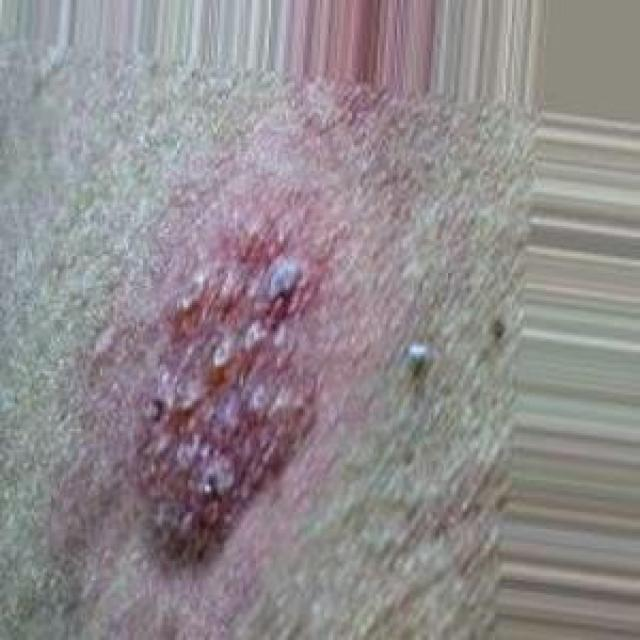Shingles: (128, 229, 323, 560)
